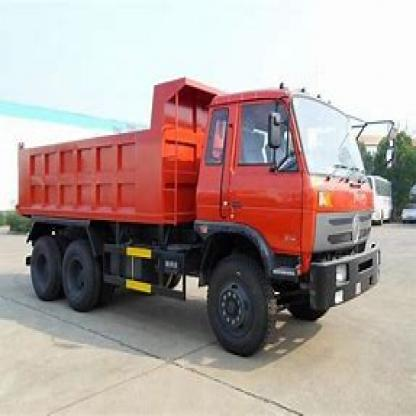dump_truck: (16, 67, 386, 370)
